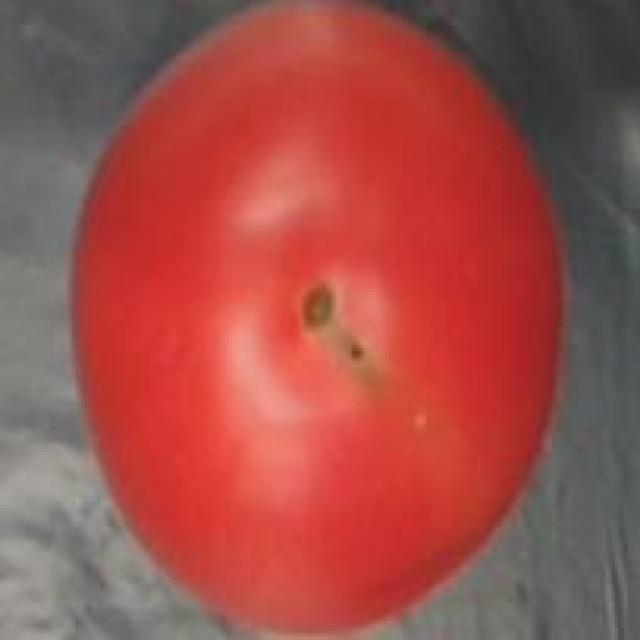ripe tomato: (63, 0, 574, 640)
